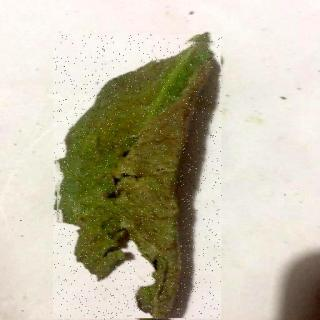Red Leaf Spot: (55, 36, 224, 320)
